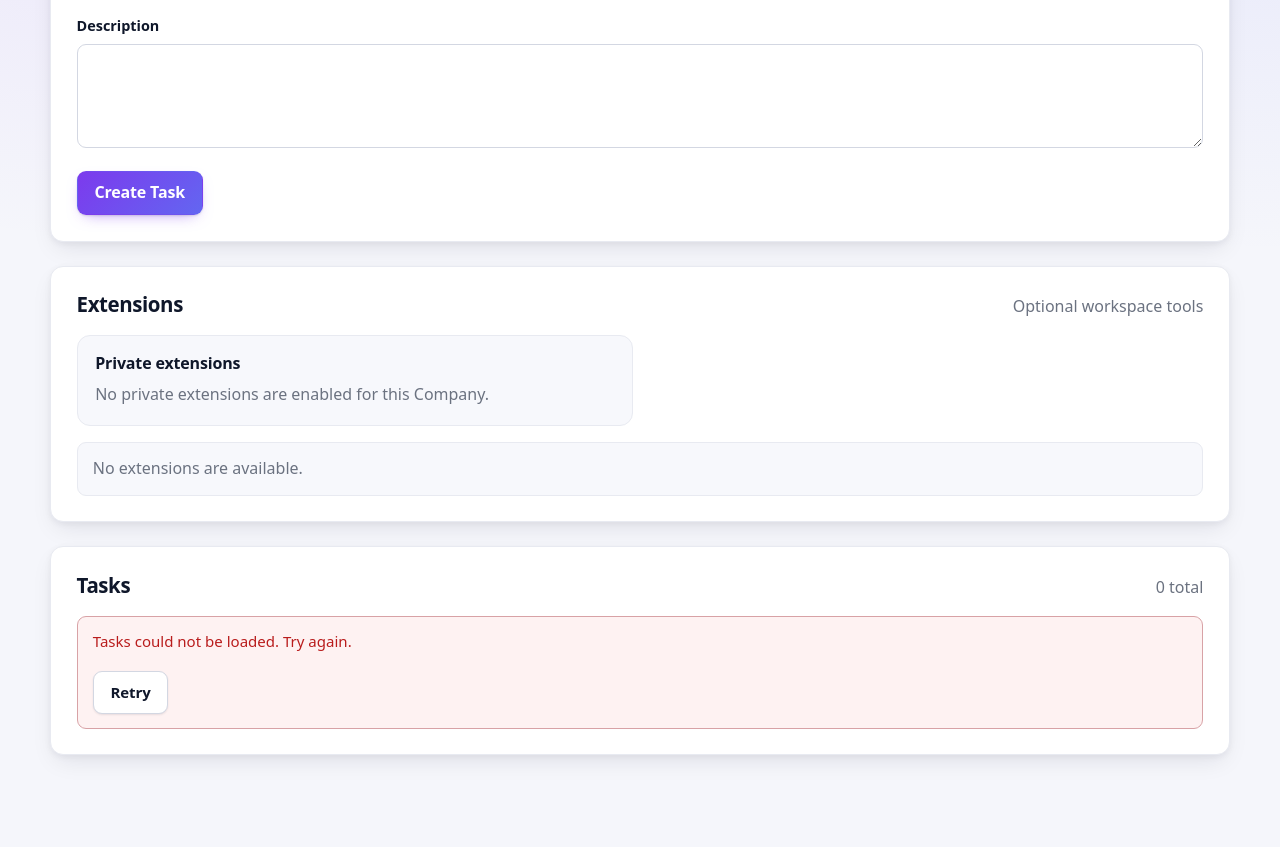
Test case: Workspace Todo dashboard › shows a safe retry state when loading fails
(page scrolled)
Check: the message shows "Tasks could not be loaded. Try again.", box 93,631 -> 352,651
Click the button "Retry": (131, 693) 93,671 -> 168,714
(page scrolled)
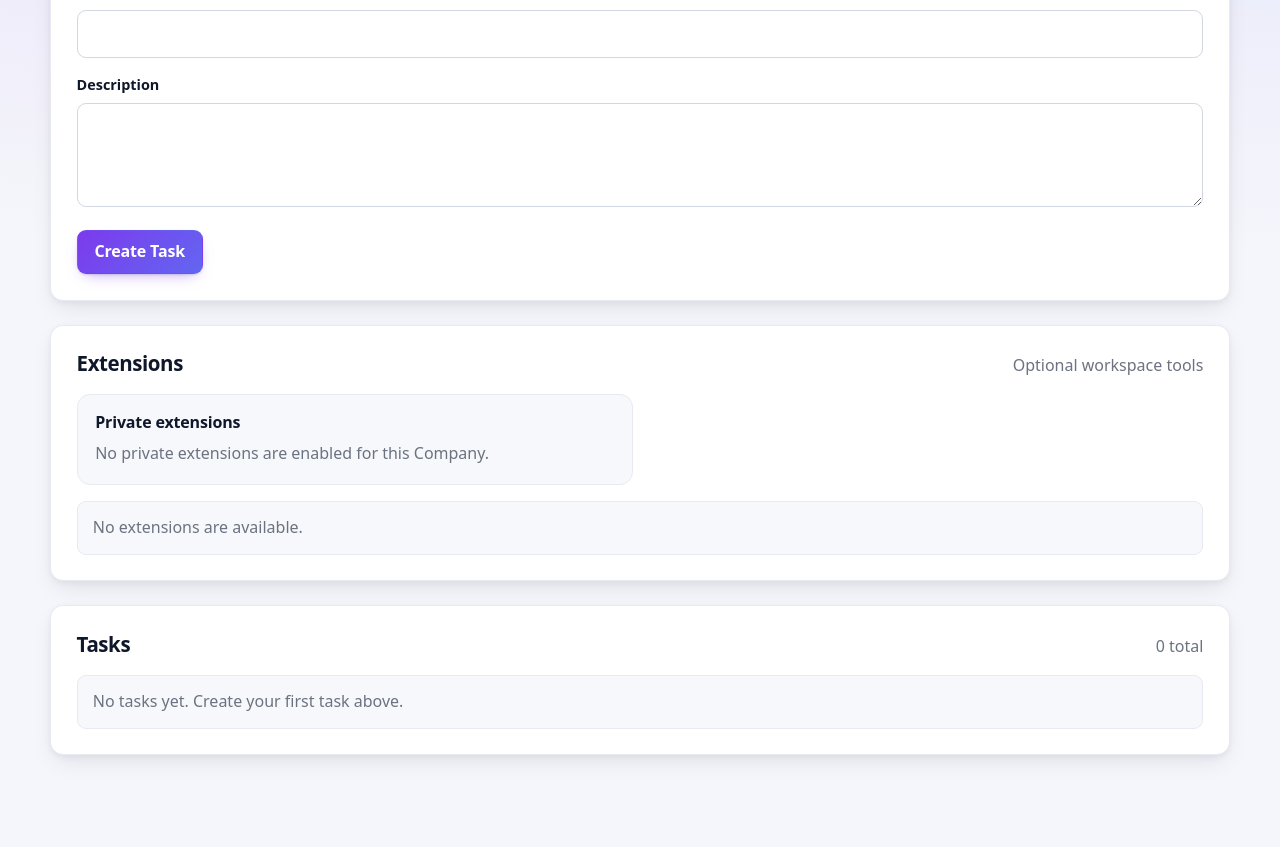
Check: the text "No tasks yet. Create your first task above." is shown, box 77,675 -> 1203,729
